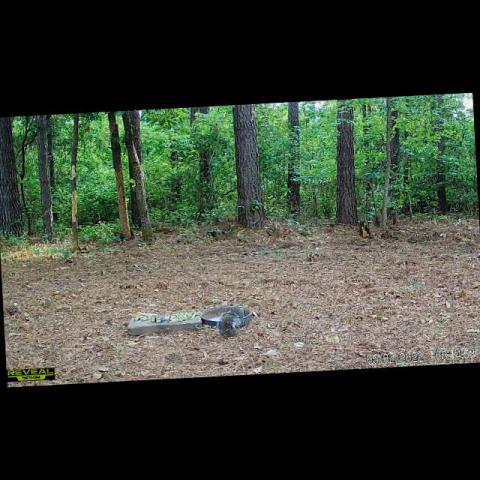small_animal: (214, 306, 246, 339)
